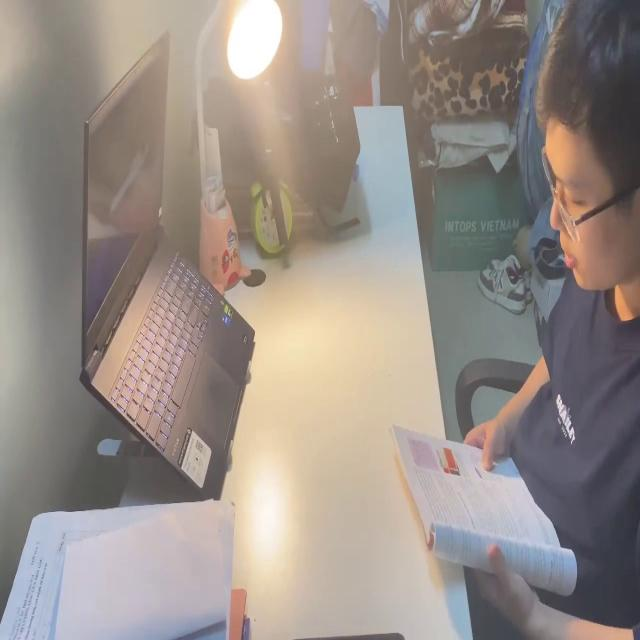book: (386, 418, 582, 598), (0, 499, 249, 640)
laptop: (75, 31, 260, 494)
student: (459, 6, 640, 640)
